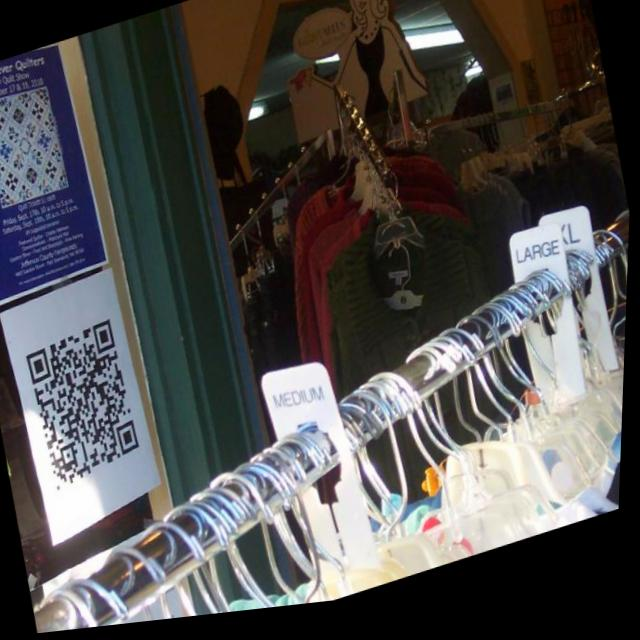qrcode: (23, 317, 151, 498)
